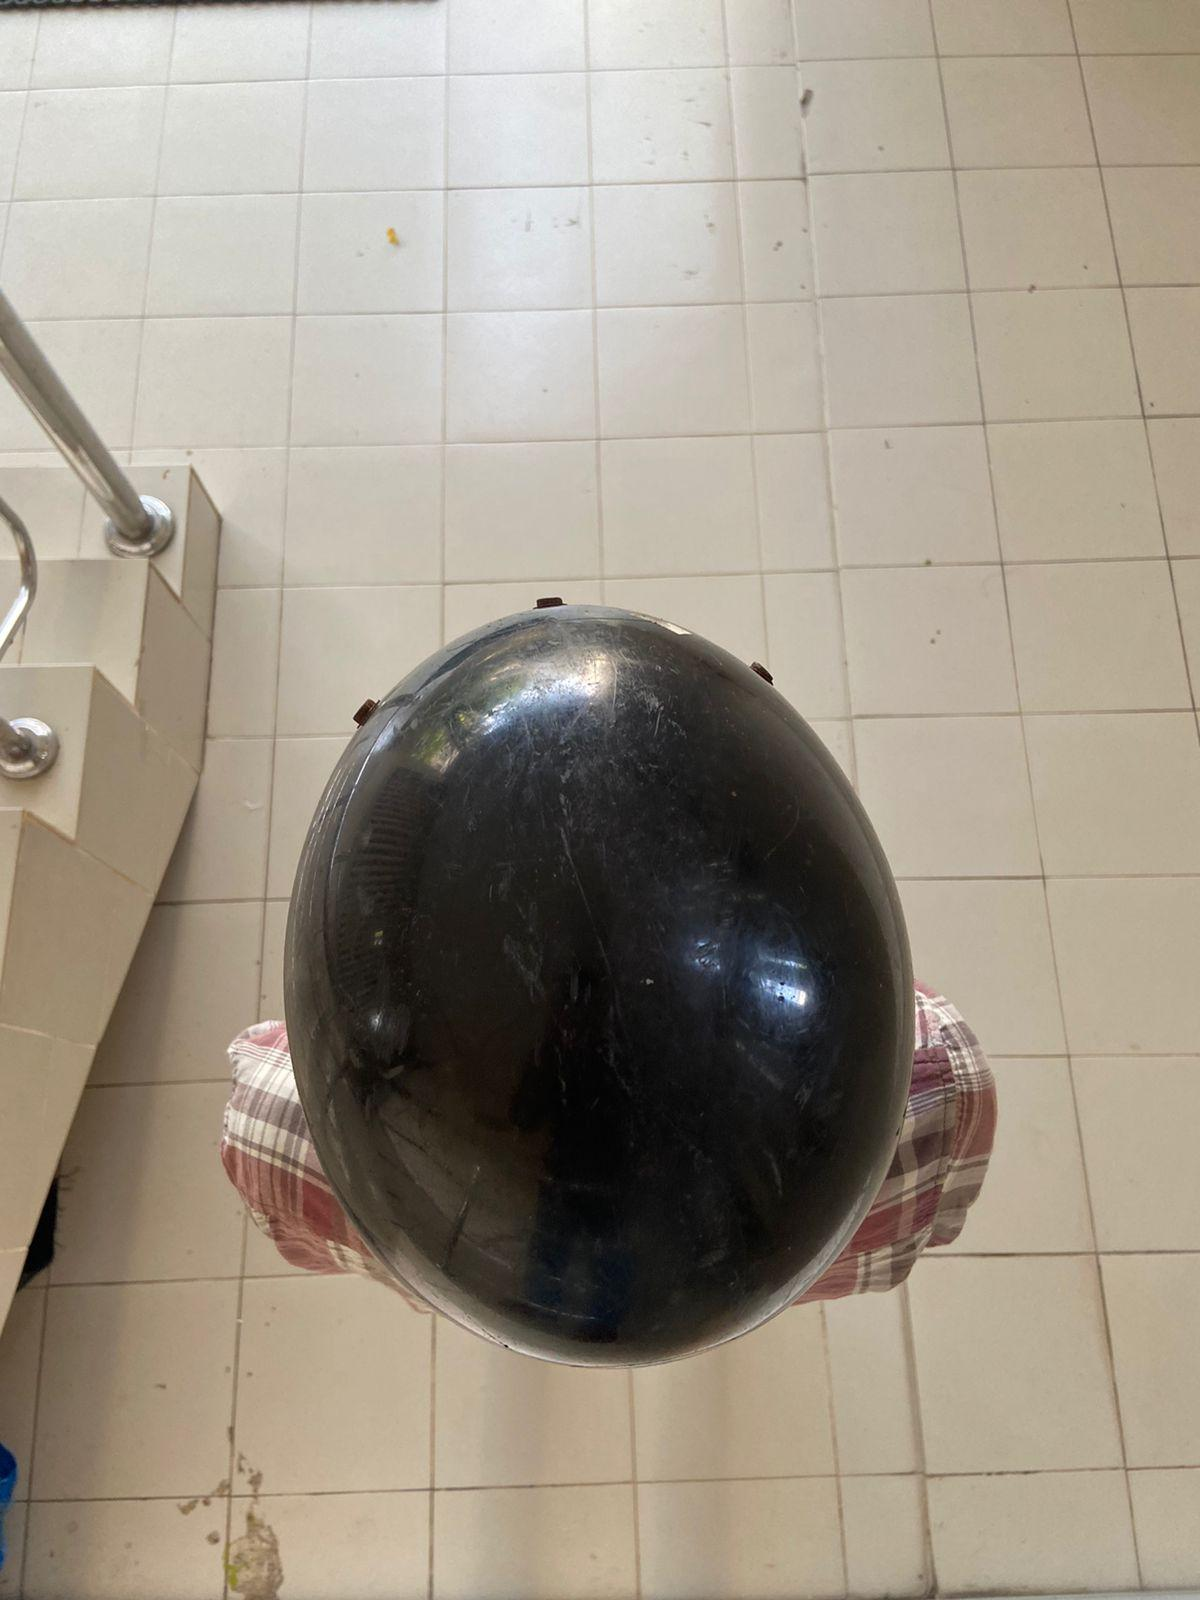helmet: (284, 592, 918, 1374)
